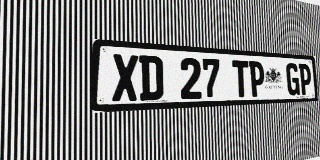2: (180, 57, 201, 99)
7: (201, 58, 221, 98)
D: (139, 55, 163, 101)
G: (286, 63, 300, 96)
P: (249, 61, 265, 97), (299, 64, 312, 95)
T: (232, 60, 250, 97)
X: (112, 54, 139, 102)
